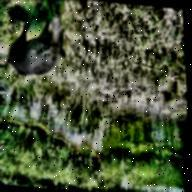boar: (0, 0, 92, 98)
